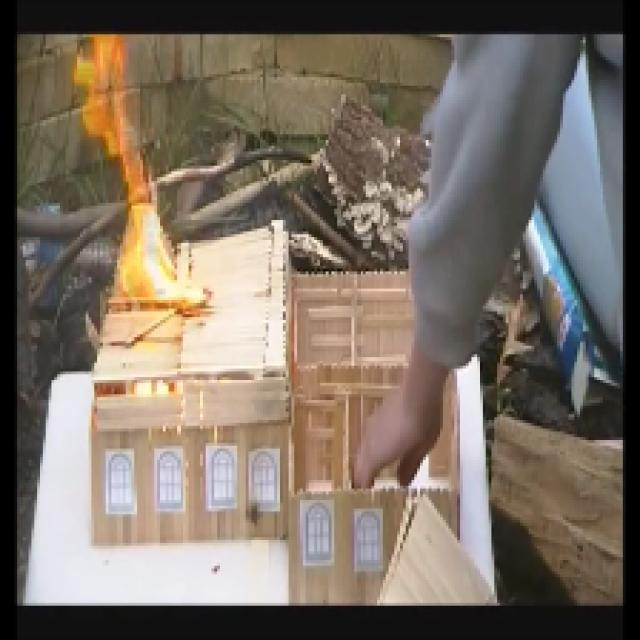Fire: (76, 35, 192, 300)
